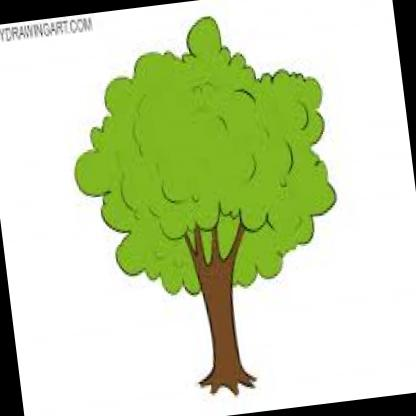branch_cut: (180, 215, 252, 279)
crown_cloud: (57, 0, 347, 306)
root_only: (192, 356, 264, 402)
trunk_straight: (200, 288, 244, 362)
